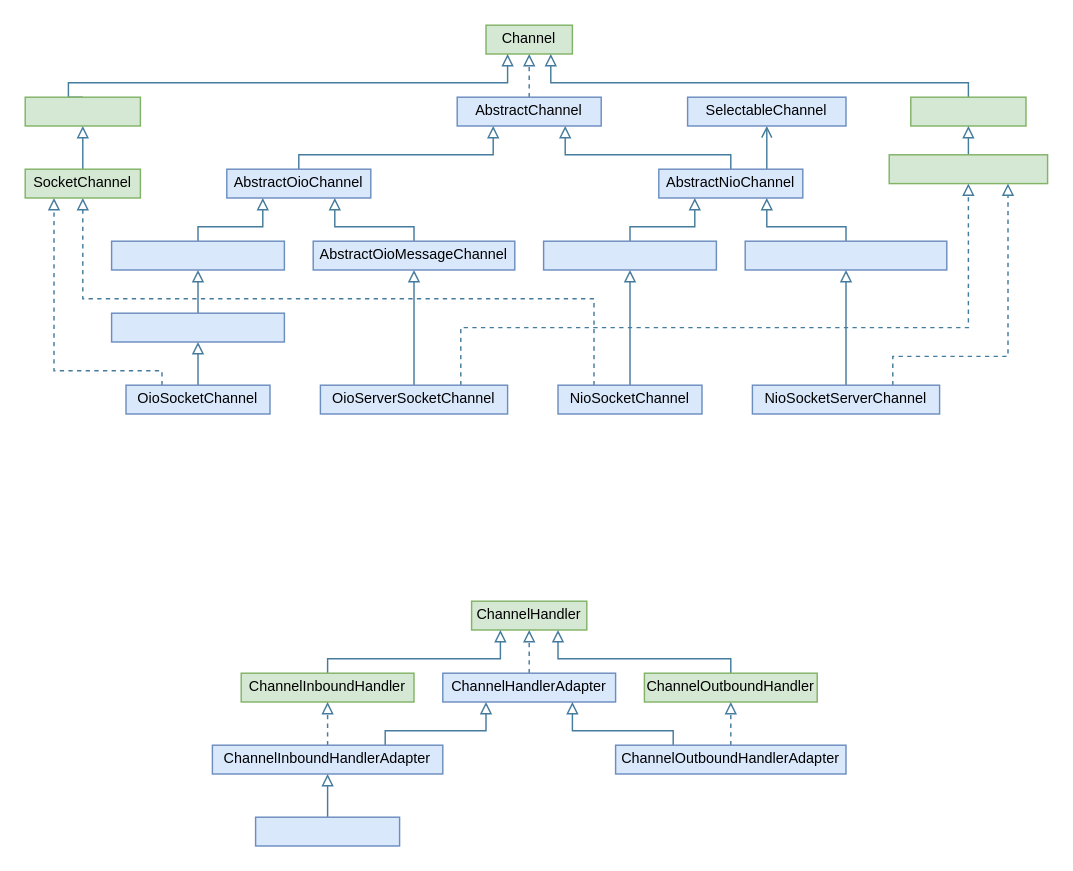
Image size: 1073x871. Some labels were removed from this diagram. The shapes that lost their labels are listed below. From the top down, each one's box as (x1, y1, x2, y2) in pixels, then its label:
(24, 96, 140, 126): DuplexChannel
(909, 96, 1026, 126): ServerChannel
(888, 153, 1048, 184): ServerSocketChannel
(110, 240, 284, 270): AbstractOioByteChannel
(542, 240, 716, 270): AbstractNioByteChannel
(744, 240, 947, 270): AbstractNioMessageChannel
(110, 312, 284, 342): OioByteStreamChannel
(254, 816, 400, 846): ChannelInitializer
